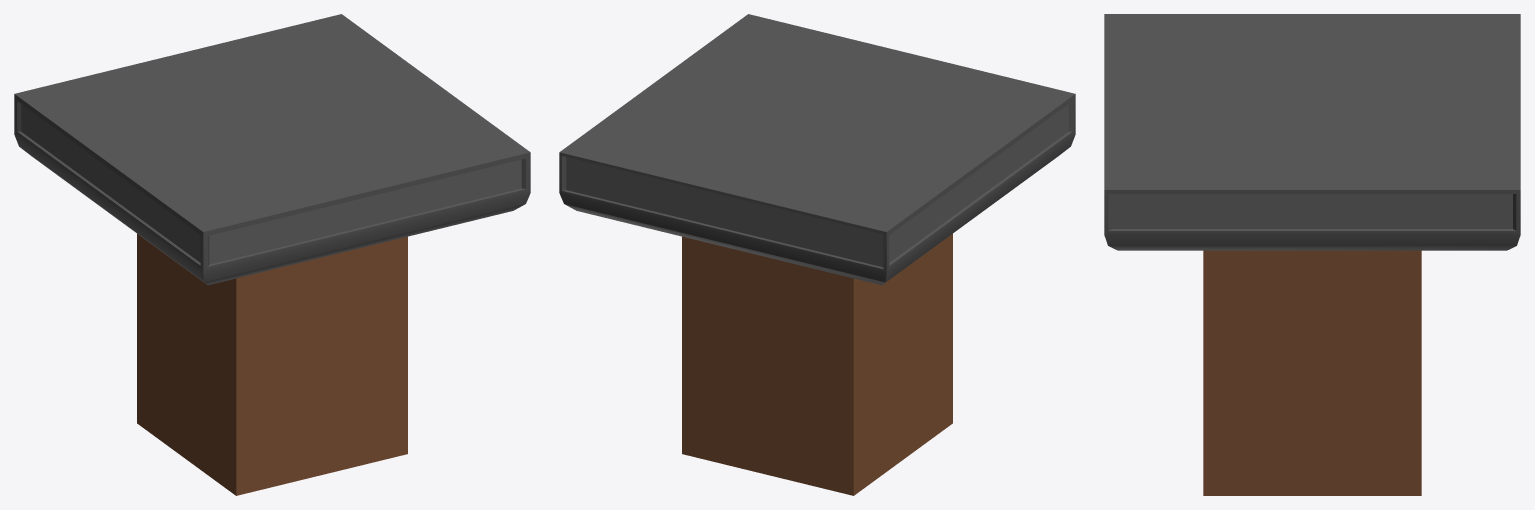
The model's file is weights.fbx.
3 views of the same model, side by side, from view 1: azimuth 30°, elevation 25°; view 2: azimuth 150°, elevation 25°; view 3: azimuth 270°, elevation 25° (orthographic). The views are drawn at different scales.
Visible parts, largest first — view 1: Cube; view 2: Cube; view 3: Cube.
Boxes of the visible parts, x1,y1,x2,y2 form: Cube: (14,14,530,495); Cube: (559,14,1075,495); Cube: (1104,14,1520,495).
Bounding box in the file's own units: 381 × 351 × 381.
Materials: 1 (1 with a texture image).
